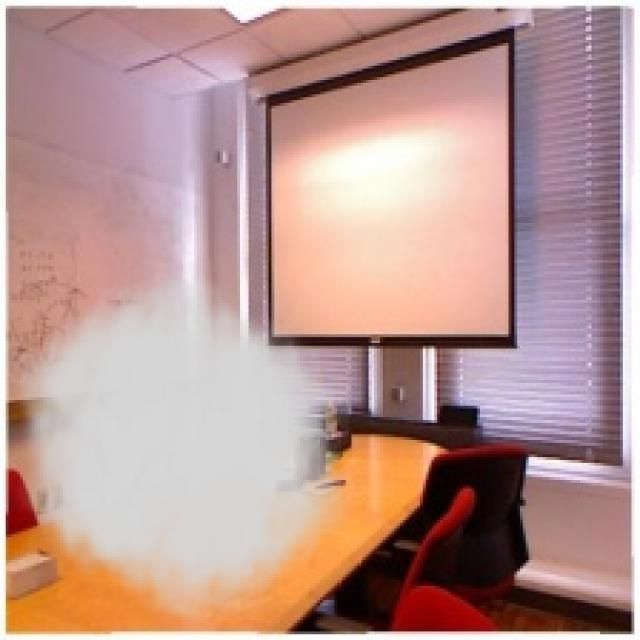Smoke: (2, 260, 348, 634)
